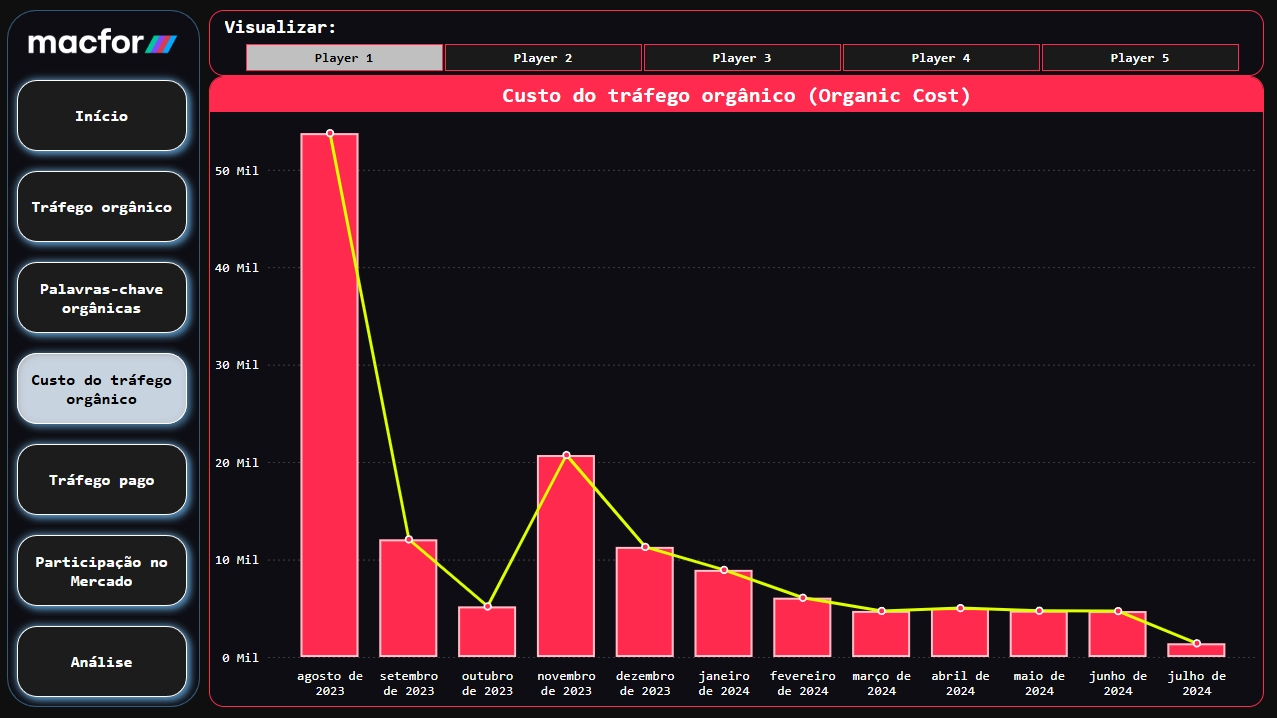

This screenshot's page, from the dashboard's own definition file:
{"tool":"powerbi","page":{"name":"Custo do tráfego orgânico","canvas":[1280,720],"ordinal":3},"visuals":[{"type":"lineClusteredColumnComboChart","title":"Custo do tráfego orgânico (Organic Cost)","fields":{"Category":["Organic cost (Organic cost).Data"],"Series":["Organic cost (Organic cost).Player"],"Y":["Sum(Organic cost (Organic cost).Valor)"],"Y2":["Sum(Organic cost (Organic cost).Valor)"]},"box":[211,77,1055,631],"z":0},{"type":"slicer","title":"Visualizar:","fields":{"Values":["Organic cost (Organic cost).Player"]},"box":[211,11,1055,66],"z":1000},{"type":"shape","box":[9,11,193,697],"z":2000},{"type":"pageNavigator","box":[9,71,190,637],"z":3000},{"type":"image","box":[12,19,187,53],"z":4000}]}

Visuals, with their boxes on the page's 1280x720 design canvas (x1, y1, x2, y2). These are canvas units, not pixel positions in the 1277x718 screenshot, which may show the page scaled, cropped or inside an application window:
"Custo do tráfego orgânico (Organic Cost)" lineClusteredColumnComboChart: [211,77,1266,708]
"Visualizar:" slicer: [211,11,1266,77]
shape: [9,11,202,708]
pageNavigator: [9,71,199,708]
image: [12,19,199,72]
